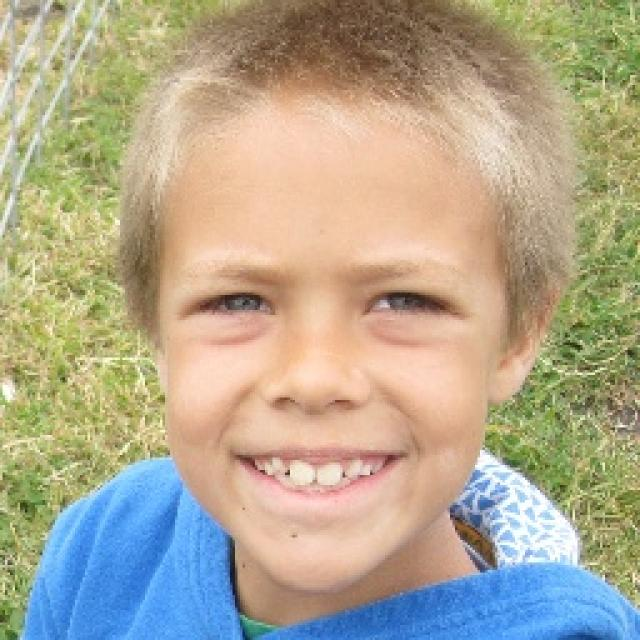earlobe: (486, 285, 558, 401)
